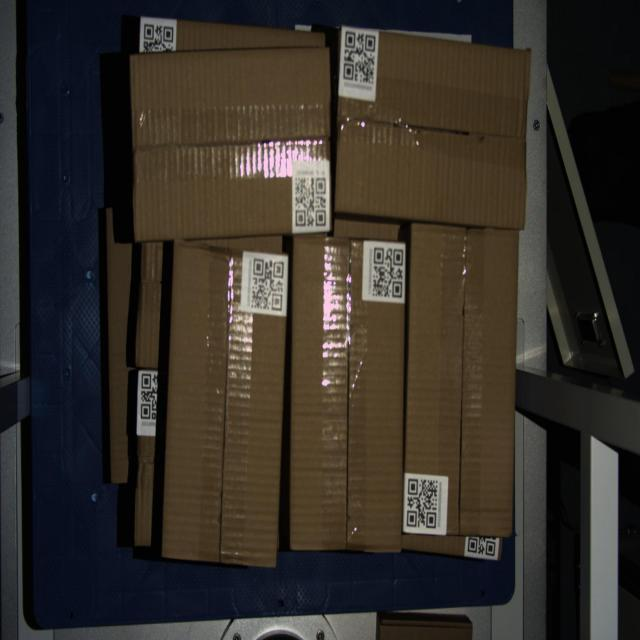box: (334, 25, 533, 230), (163, 245, 289, 568), (131, 47, 332, 243), (290, 237, 407, 552), (403, 223, 520, 537)
